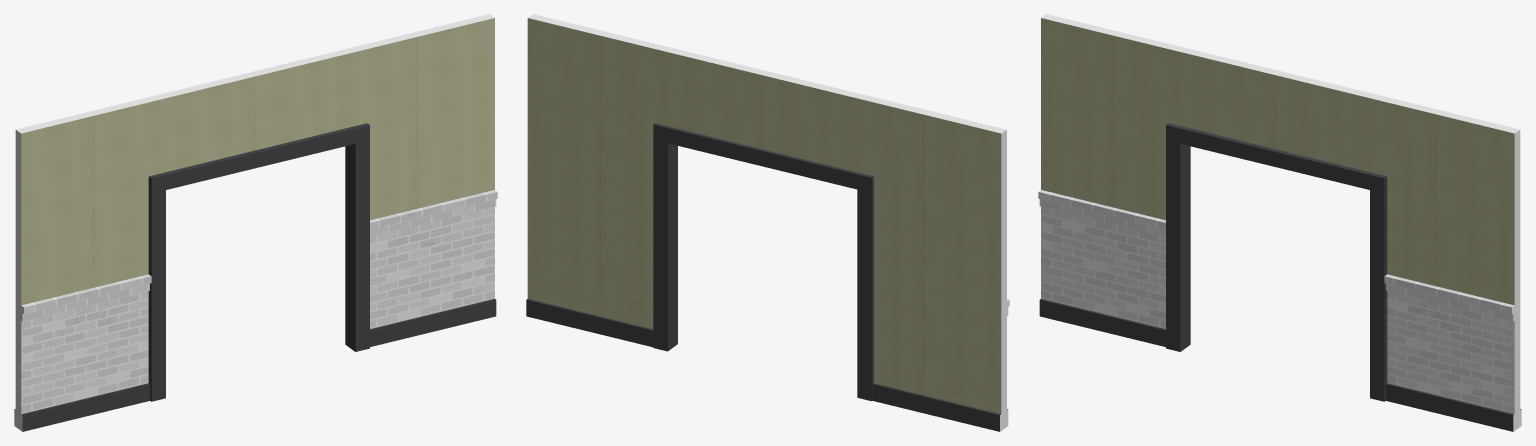
The model's file is SM_Buildings_WallDoorDouble_5x3_01_WallpaperBack.fbx.
The picture shows the model from 3 angles, left to right: view 1: azimuth 30°, elevation 25°; view 2: azimuth 150°, elevation 25°; view 3: azimuth 330°, elevation 25°; orthographic projection.
Visible parts, largest first — view 1: SM_Buildings_WallDoorDouble_5x3_01_WallpaperBack; view 2: SM_Buildings_WallDoorDouble_5x3_01_WallpaperBack; view 3: SM_Buildings_WallDoorDouble_5x3_01_WallpaperBack.
Boxes of the visible parts, box(x1,y1,x2,y2) form: SM_Buildings_WallDoorDouble_5x3_01_WallpaperBack: box(14, 14, 497, 431); SM_Buildings_WallDoorDouble_5x3_01_WallpaperBack: box(526, 14, 1009, 431); SM_Buildings_WallDoorDouble_5x3_01_WallpaperBack: box(1038, 14, 1521, 431).
Bounding box in the file's own units: 500 × 300 × 18.64.
Materials: 1 (1 with a texture image).
